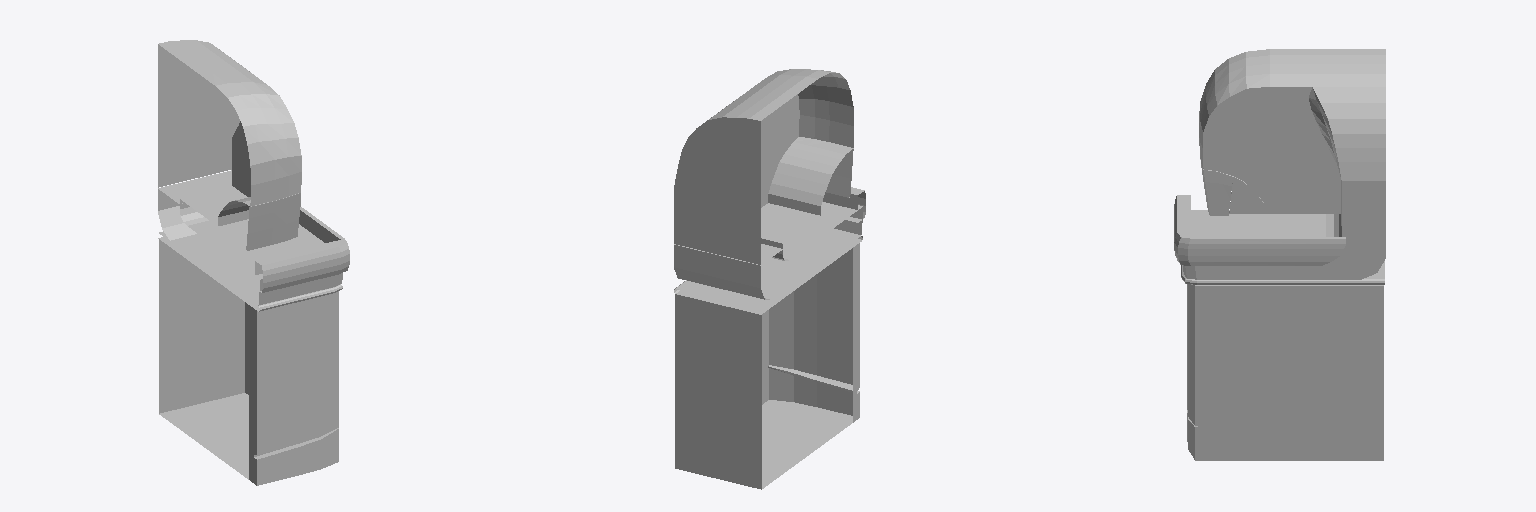
File: khalilAnderson_dxh800.001.obj
The picture shows the model from 3 angles: view 1: azimuth 30°, elevation 25°; view 2: azimuth 150°, elevation 25°; view 3: azimuth 270°, elevation 25°; orthographic projection.
Size of the model in its own units: 51.77 by 200 by 104.